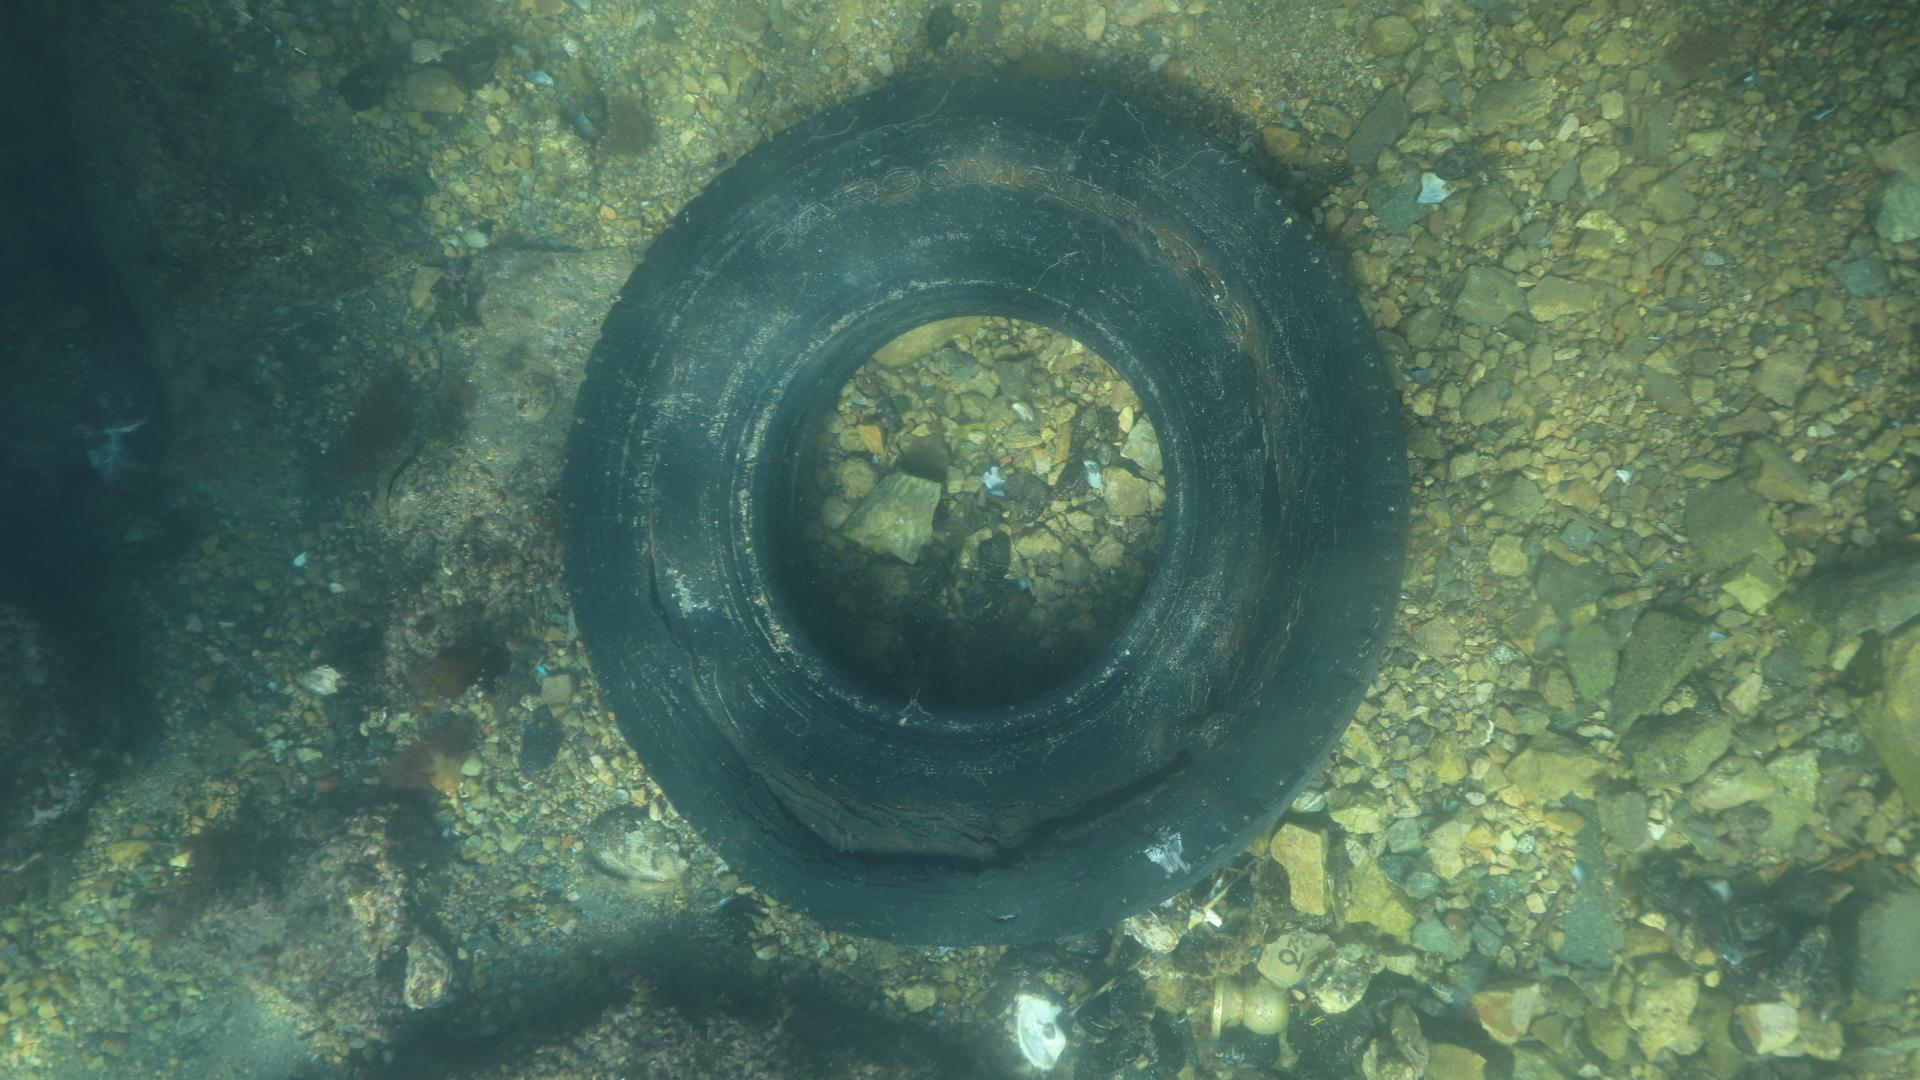tire: (555, 73, 1411, 949)
